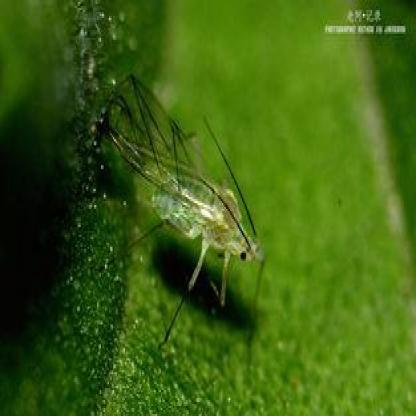aphid: (95, 73, 267, 353)
